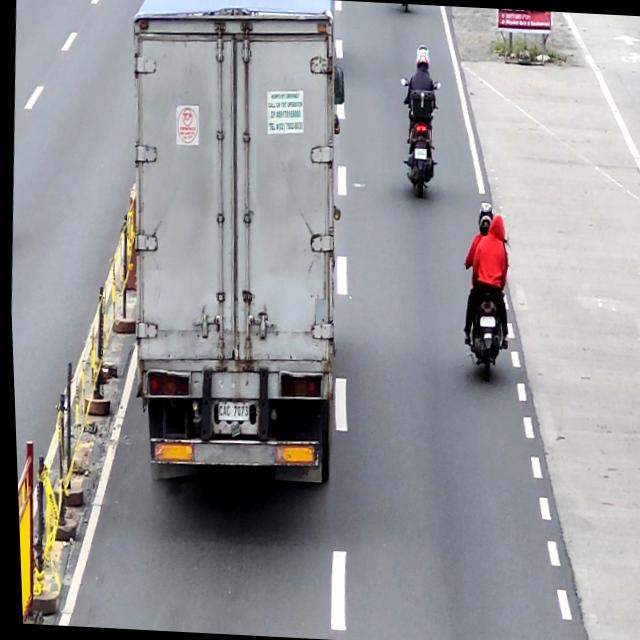License-Plate: (213, 401, 248, 424), (477, 314, 493, 328), (413, 147, 426, 160)
Motorcycle: (461, 249, 511, 381), (395, 74, 442, 197)
Truck: (106, 0, 360, 492)
